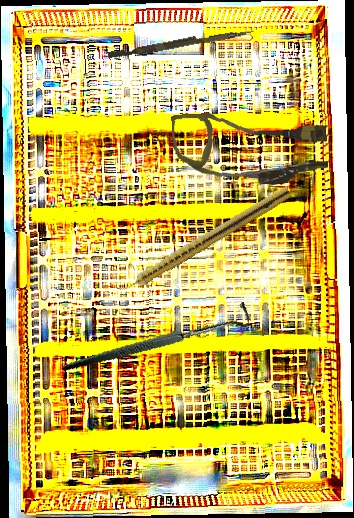Cannula: (171, 107, 329, 189)
Handpiece: (114, 182, 293, 299)
Hook Surgical: (62, 266, 253, 408)
Pusher: (107, 23, 255, 63)
